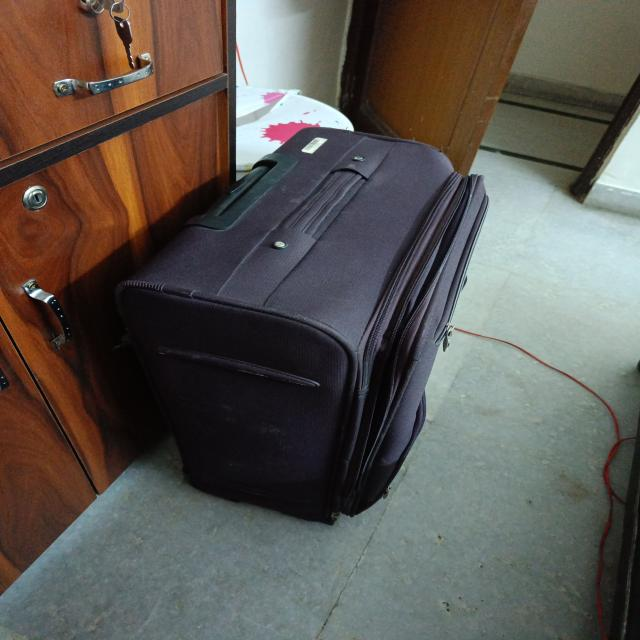suitcaserotation: (105, 124, 493, 529)
